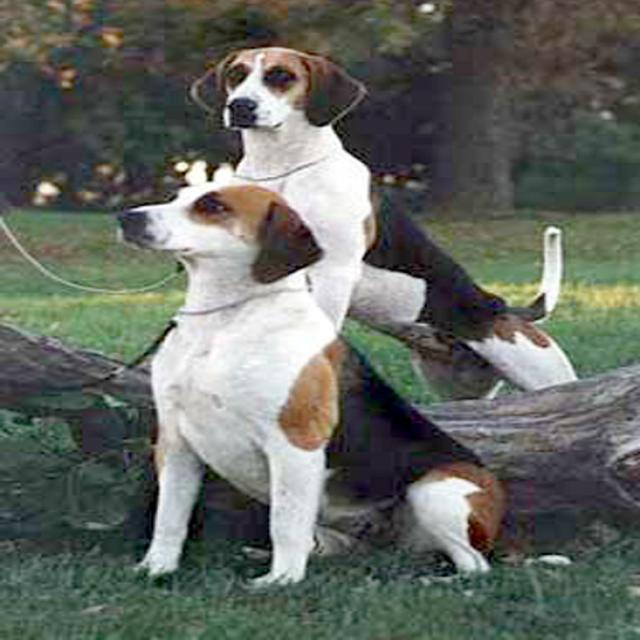sitting: (112, 172, 514, 590)
